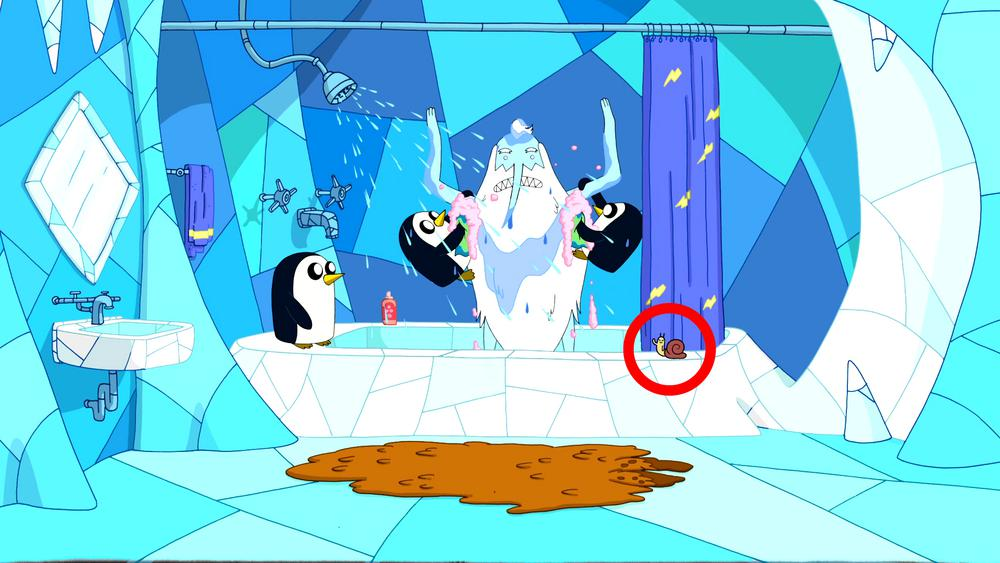snail: (651, 331, 688, 361)
